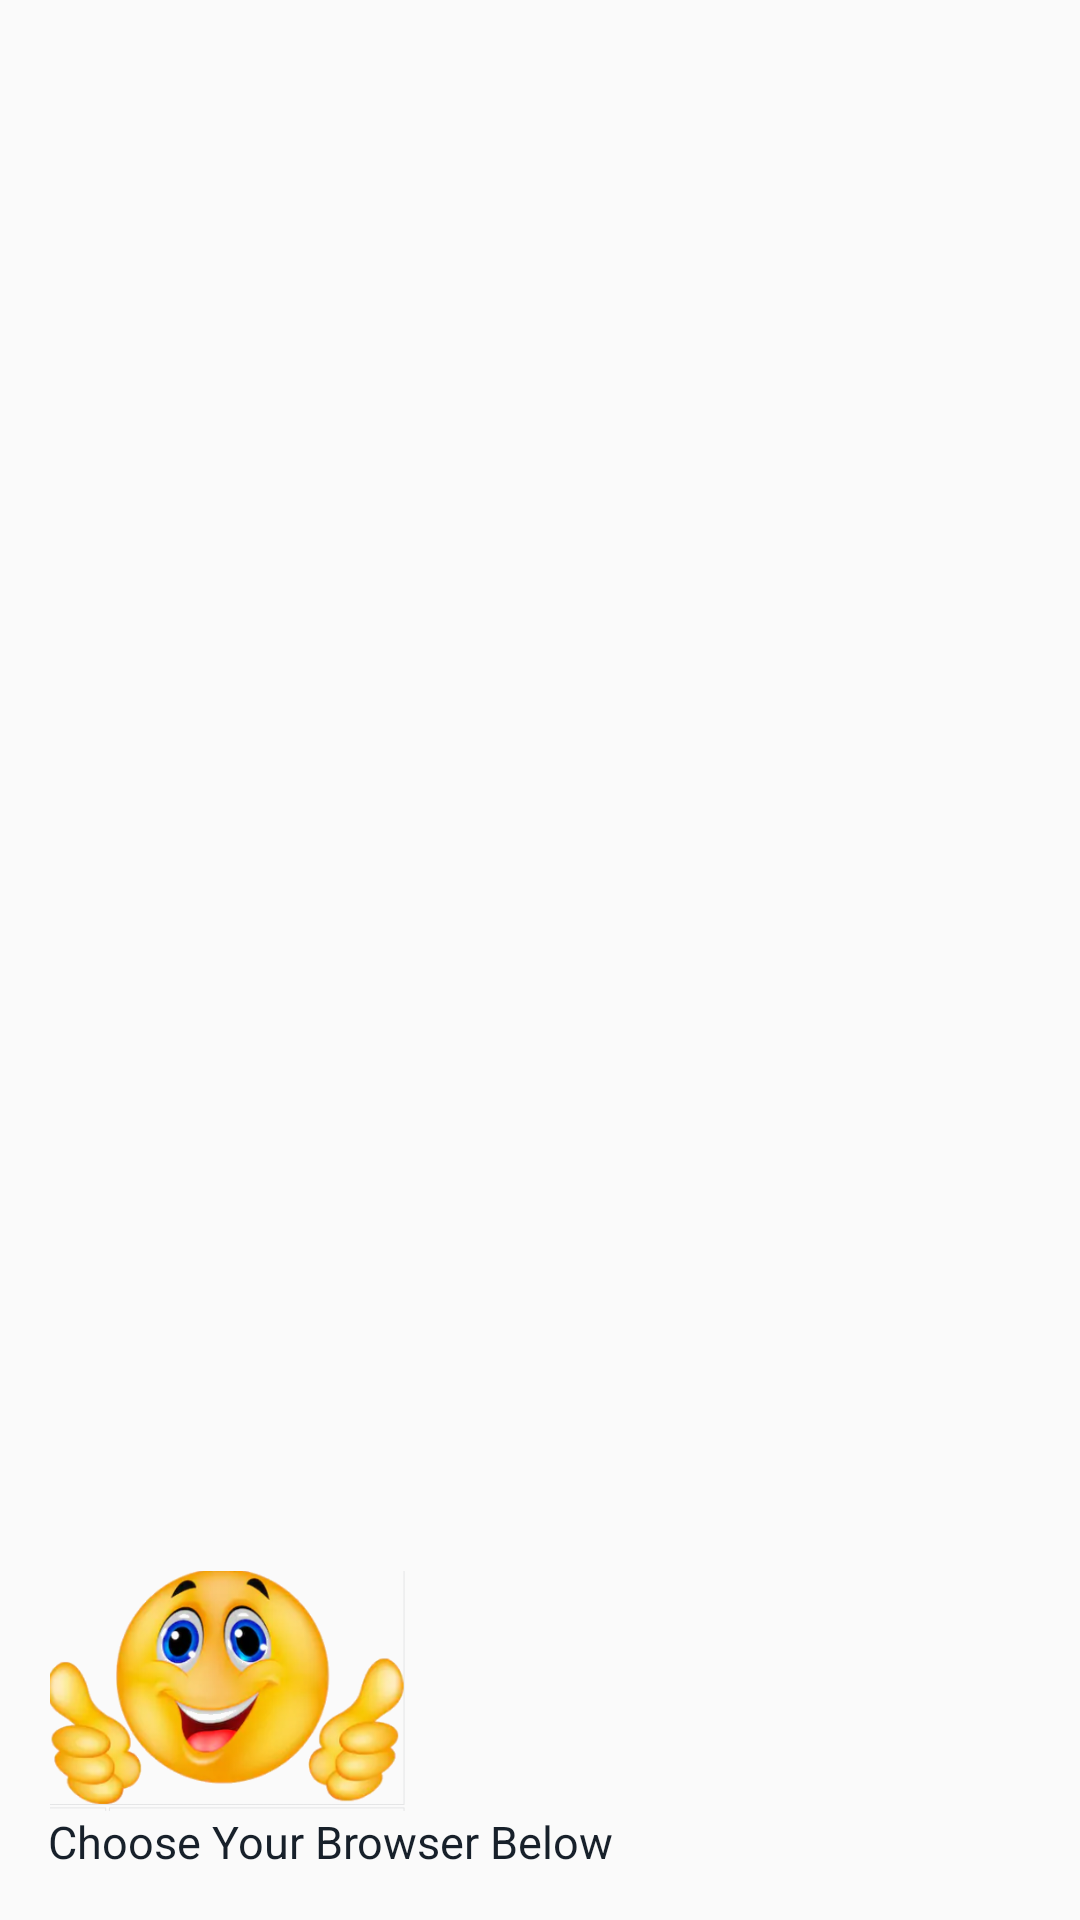

Where icons sit on this 1080*1920 app screen, as BBox(x1, y1, x2, y2):
smiley: BBox(50, 1571, 404, 1804)
